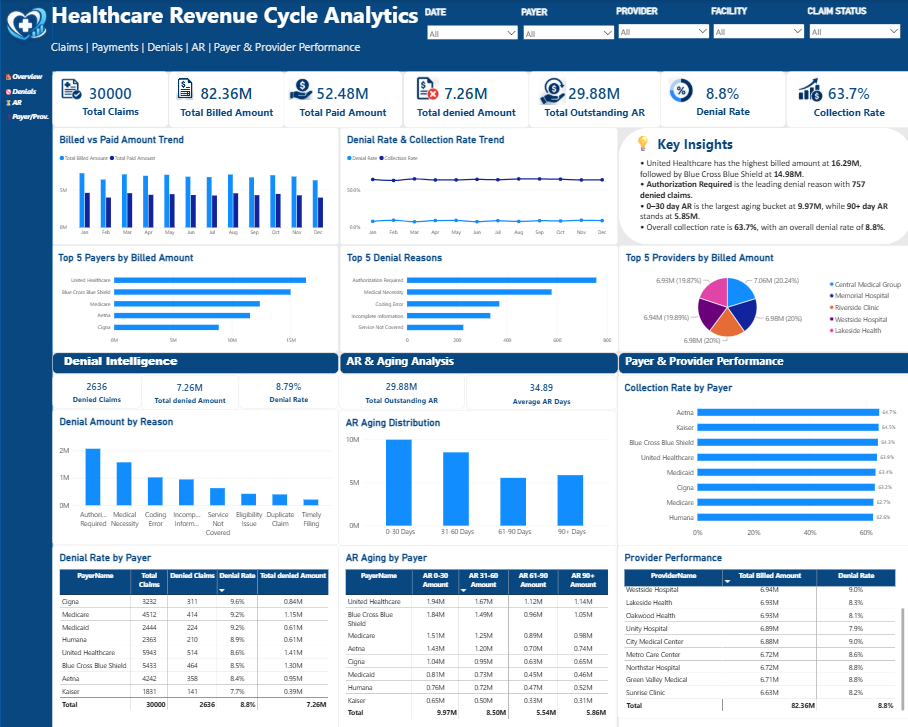

What the dashboard file says about the page in this screenshot:
{"tool":"powerbi","page":{"name":"RCM Executive Overview","canvas":[2200,1800],"ordinal":0},"visuals":[{"type":"textbox","box":[110,0,2090,108],"z":0},{"type":"clusteredColumnChart","title":"Billed vs Paid Amount Trend","fields":{"Category":["DimDate.Month"],"Y":["FactClaims.Total Billed Amount","FactClaims.Total Paid Amount"]},"box":[126.2,311.2,691.2,282.5],"z":1000},{"type":"lineChart","title":"Denial Rate & Collection Rate Trend","fields":{"Category":["DimDate.Month"],"Y":["FactClaims.Denial Rate","FactClaims.Collection Rate"]},"box":[820,311.7,670,282.5],"z":2000},{"type":"clusteredBarChart","title":"Top 5 Payers by Billed Amount","fields":{"Category":["DimPayer.PayerName"],"Y":["FactClaims.Total Billed Amount"]},"box":[125,595,692.5,258.1],"z":3000},{"type":"clusteredBarChart","title":"Top 5 Denial Reasons","fields":{"Category":["DimDenialReason.DenialReason"],"Y":["FactClaims.Denied Claims"]},"box":[820,594.2,671.7,258.3],"z":4000},{"type":"pieChart","title":"Top 5 Providers by Billed Amount","fields":{"Category":["DimProvider.ProviderName"],"Y":["FactClaims.Total Billed Amount"]},"box":[1492.2,595.6,707.8,257.8],"z":5000},{"type":"shape","box":[0,0,126.7,1800.6],"z":6000},{"type":"textbox","box":[110,98,2090,78],"z":7000},{"type":"slicer","title":"DATE","fields":{"Values":["DimDate.MonthYear"]},"box":[1025,17.5,230,90],"z":8000},{"type":"slicer","title":"PAYER","fields":{"Values":["DimPayer.PayerName"]},"box":[1257.5,17.5,230,80],"z":9000},{"type":"slicer","title":"PROVIDER","fields":{"Values":["DimProvider.ProviderName"]},"box":[1487.5,15,230,82],"z":10000},{"type":"slicer","title":"FACILITY","fields":{"Values":["DimFacility.FacilityName"]},"box":[1717.5,15,230,84],"z":11000},{"type":"slicer","title":"CLAIM STATUS","fields":{"Values":["FactClaims.ClaimStatus"]},"box":[1947.5,15,230,86],"z":12000},{"type":"card","fields":{"Values":["FactClaims.Total Claims"]},"box":[126,176,280,134],"z":13000},{"type":"card","fields":{"Values":["FactClaims.Total Billed Amount"]},"box":[406,176,280,136],"z":14000},{"type":"card","fields":{"Values":["FactClaims.Total Paid Amount"]},"box":[686,176,286,136],"z":15000},{"type":"card","fields":{"Values":["FactClaims.Total denied Amount"]},"box":[974,176,302,136],"z":16000},{"type":"card","fields":{"Values":["FactClaims.Denial Rate"]},"box":[1594,176,304,134],"z":17000},{"type":"card","fields":{"Values":["FactClaims.Collection Rate"]},"box":[1896,176,304,136],"z":18000},{"type":"card","fields":{"Values":["FactClaims.Total Outstanding AR"]},"box":[1276,176,318,136],"z":19000},{"type":"shape","box":[1491.7,311.7,708.3,281.7],"z":20000},{"type":"textbox","box":[1525.7,322.9,307.1,55.7],"z":21000},{"type":"shape","box":[128.3,853.3,691.7,946.7],"z":22000},{"type":"textbox","box":[147.5,1133.8,670,20],"z":23000},{"type":"textbox","title":"Denial Intelligence ","box":[128.1,855,690,50],"z":24000},{"type":"card","fields":{"Values":["FactClaims.Denied Claims"]},"box":[126.9,906.2,214.4,83.1],"z":25000},{"type":"card","fields":{"Values":["FactClaims.Total denied Amount"]},"box":[340.6,906.9,235.6,82.5],"z":26000},{"type":"card","fields":{"Values":["FactClaims.Denial Rate"]},"box":[576.2,906.2,241.9,83.1],"z":27000},{"type":"clusteredColumnChart","title":"Denial Amount by Reason","fields":{"Category":["DimDenialReason.DenialReason"],"Y":["FactClaims.Total denied Amount"]},"box":[126.9,990,690.6,328.1],"z":28000},{"type":"tableEx","title":"Denial Rate by Payer","fields":{"Values":["DimPayer.PayerName","FactClaims.Total Claims","FactClaims.Denied Claims","FactClaims.Denial Rate","FactClaims.Total denied Amount"]},"box":[126.9,1318.1,690.6,481.9],"z":29000},{"type":"shape","box":[820,853.3,668.3,946.7],"z":30000},{"type":"textbox","title":"Denial Intelligence ","box":[820,854,671,50],"z":31000},{"type":"card","fields":{"Values":["FactClaims.Total Outstanding AR"]},"box":[818.1,906.2,304.2,85],"z":32000},{"type":"card","fields":{"Values":["FactClaims.Average AR Days"]},"box":[1123.8,908.1,363.8,83.8],"z":33000},{"type":"clusteredColumnChart","title":"AR Aging Distribution","fields":{"Category":["FactClaims.AR Bucket"],"Y":["FactClaims.Total Outstanding AR"]},"box":[818.1,991.2,669.4,326.2],"z":34000},{"type":"pivotTable","title":"AR Aging by Payer","fields":{"Rows":["DimPayer.PayerName"],"Values":["FactClaims.AR 0-30 Amount","FactClaims.AR 31-60 Amount","FactClaims.AR 61-90 Amount","FactClaims.AR 90+ Amount"]},"box":[818.1,1318.1,669.4,481.9],"z":35000},{"type":"shape","box":[1491.7,855,708.3,945],"z":36000},{"type":"textbox","title":"Payer & Provider Performance ","box":[1492.7,854.5,707.3,50],"z":37000},{"type":"clusteredBarChart","title":"Collection Rate by Payer","fields":{"Category":["DimPayer.PayerName"],"Y":["FactClaims.Collection Rate"]},"box":[1490,907.5,706.7,413.3],"z":38000},{"type":"pivotTable","title":"Provider Performance","fields":{"Rows":["DimProvider.ProviderName"],"Values":["FactClaims.Total Billed Amount","FactClaims.Denial Rate"]},"box":[1490,1318.8,710,417.5],"z":39000},{"type":"textbox","box":[1545.7,365.7,602.9,212.9],"z":40000},{"type":"image","box":[126,134,92,169],"z":41000},{"type":"image","box":[417.8,186.7,53.3,56.7],"z":42000},{"type":"image","box":[696.7,186.7,58.9,56.7],"z":43000},{"type":"image","box":[1276.7,186.7,113.3,68.9],"z":44000},{"type":"image","box":[988,187,83,57],"z":45000},{"type":"image","box":[1607,186,72,62],"z":46000},{"type":"image","box":[1917,187,72,61],"z":47000},{"type":"textbox","box":[4,176,118,34],"z":48000},{"type":"textbox","box":[4,210,118,34],"z":49000},{"type":"textbox","box":[4.4,238.9,117.8,26.7],"z":50000},{"type":"textbox","box":[4.4,270,118,34],"z":51000},{"type":"image","box":[0,0,128.3,136.7],"z":52000}]}

Visuals, with their boxes in screenshot pixels (x1, y1, x2, y2), scaled from the page's 2200x1800 canvas onto the 908x727 screenshot:
textbox: x1=45, y1=0, x2=907, y2=44
"Billed vs Paid Amount Trend" clusteredColumnChart: x1=52, y1=126, x2=337, y2=240
"Denial Rate & Collection Rate Trend" lineChart: x1=338, y1=126, x2=615, y2=240
"Top 5 Payers by Billed Amount" clusteredBarChart: x1=52, y1=240, x2=337, y2=345
"Top 5 Denial Reasons" clusteredBarChart: x1=338, y1=240, x2=616, y2=344
"Top 5 Providers by Billed Amount" pieChart: x1=616, y1=241, x2=907, y2=345
shape: x1=0, y1=0, x2=52, y2=726
textbox: x1=45, y1=40, x2=907, y2=71
"DATE" slicer: x1=423, y1=7, x2=518, y2=43
"PAYER" slicer: x1=519, y1=7, x2=614, y2=39
"PROVIDER" slicer: x1=614, y1=6, x2=709, y2=39
"FACILITY" slicer: x1=709, y1=6, x2=804, y2=40
"CLAIM STATUS" slicer: x1=804, y1=6, x2=899, y2=41
card - FactClaims.Total Claims: x1=52, y1=71, x2=168, y2=125
card - FactClaims.Total Billed Amount: x1=168, y1=71, x2=283, y2=126
card - FactClaims.Total Paid Amount: x1=283, y1=71, x2=401, y2=126
card - FactClaims.Total denied Amount: x1=402, y1=71, x2=527, y2=126
card - FactClaims.Denial Rate: x1=658, y1=71, x2=783, y2=125
card - FactClaims.Collection Rate: x1=783, y1=71, x2=907, y2=126
card - FactClaims.Total Outstanding AR: x1=527, y1=71, x2=658, y2=126
shape: x1=616, y1=126, x2=907, y2=240
textbox: x1=630, y1=130, x2=756, y2=153
shape: x1=53, y1=345, x2=338, y2=726
textbox: x1=61, y1=458, x2=337, y2=466
"Denial Intelligence " textbox: x1=53, y1=345, x2=338, y2=366
card - FactClaims.Denied Claims: x1=52, y1=366, x2=141, y2=400
card - FactClaims.Total denied Amount: x1=141, y1=366, x2=238, y2=400
card - FactClaims.Denial Rate: x1=238, y1=366, x2=338, y2=400
"Denial Amount by Reason" clusteredColumnChart: x1=52, y1=400, x2=337, y2=532
"Denial Rate by Payer" tableEx: x1=52, y1=532, x2=337, y2=726
shape: x1=338, y1=345, x2=614, y2=726
"Denial Intelligence " textbox: x1=338, y1=345, x2=615, y2=365
card - FactClaims.Total Outstanding AR: x1=338, y1=366, x2=463, y2=400
card - FactClaims.Average AR Days: x1=464, y1=367, x2=614, y2=401
"AR Aging Distribution" clusteredColumnChart: x1=338, y1=400, x2=614, y2=532
"AR Aging by Payer" pivotTable: x1=338, y1=532, x2=614, y2=726
shape: x1=616, y1=345, x2=907, y2=726
"Payer & Provider Performance " textbox: x1=616, y1=345, x2=907, y2=365
"Collection Rate by Payer" clusteredBarChart: x1=615, y1=367, x2=907, y2=533
"Provider Performance" pivotTable: x1=615, y1=533, x2=907, y2=701
textbox: x1=638, y1=148, x2=887, y2=234
image: x1=52, y1=54, x2=90, y2=122
image: x1=172, y1=75, x2=194, y2=98
image: x1=288, y1=75, x2=312, y2=98
image: x1=527, y1=75, x2=574, y2=103
image: x1=408, y1=76, x2=442, y2=99
image: x1=663, y1=75, x2=693, y2=100
image: x1=791, y1=76, x2=821, y2=100
textbox: x1=2, y1=71, x2=50, y2=85
textbox: x1=2, y1=85, x2=50, y2=99
textbox: x1=2, y1=96, x2=50, y2=107
textbox: x1=2, y1=109, x2=51, y2=123
image: x1=0, y1=0, x2=53, y2=55
